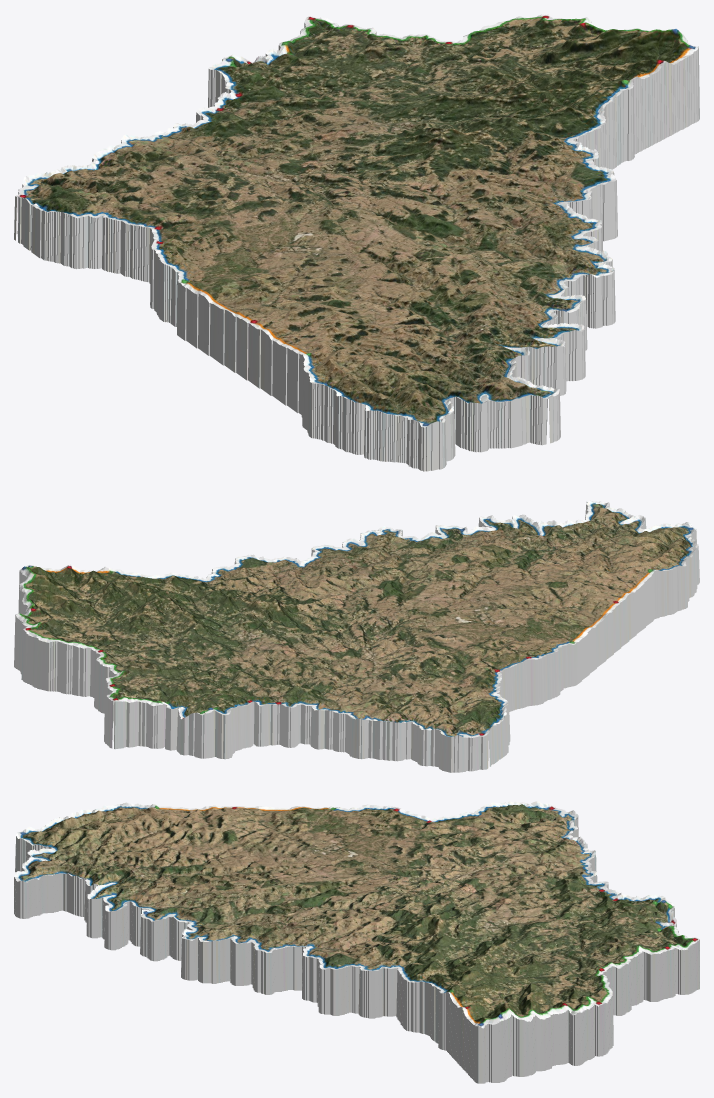
3 views of the same model, one above another, from view 1: azimuth 30°, elevation 25°; view 2: azimuth 150°, elevation 25°; view 3: azimuth 270°, elevation 25° (orthographic). The views are drawn at different scales.
Bounding box in the file's own units: 1 × 0.1236 × 1.18.
1 material, 1 textured.
